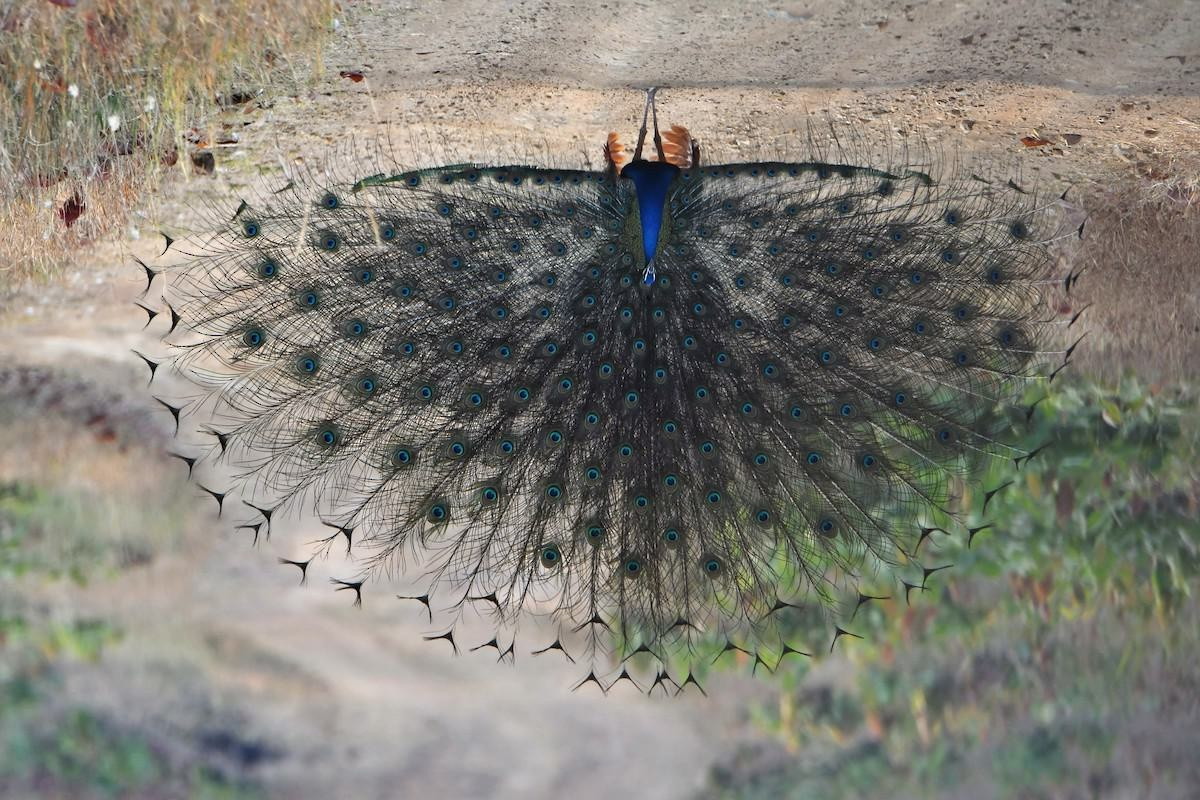peacock: (307, 136, 1094, 633)
